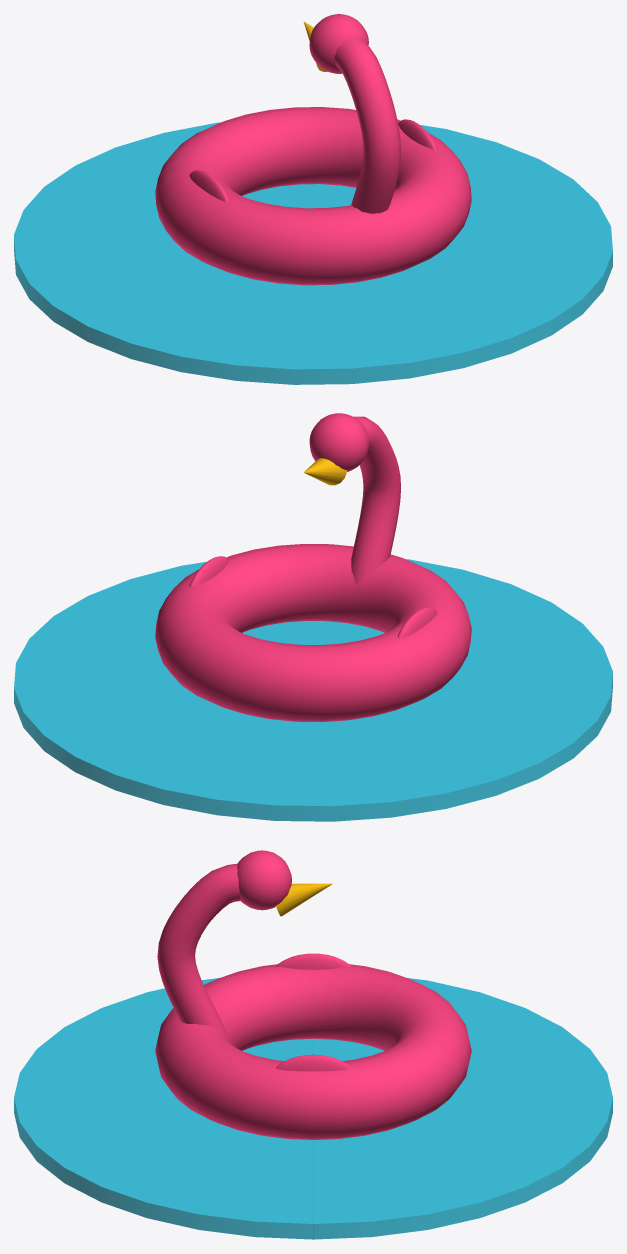
The model's file is pool_flamingo.glb.
3 views of the same model, one above another, from view 1: azimuth 30°, elevation 25°; view 2: azimuth 150°, elevation 25°; view 3: azimuth 270°, elevation 25° (orthographic).
Visible parts, largest first — view 1: model_pool_flamingo; view 2: model_pool_flamingo; view 3: model_pool_flamingo.
Part boxes in pixels (box(x1,y1,x2,y2)): model_pool_flamingo: box(14, 14, 612, 384); model_pool_flamingo: box(14, 413, 612, 821); model_pool_flamingo: box(14, 850, 612, 1239).
Bounding box in the file's own units: 7 × 3.35 × 7.
